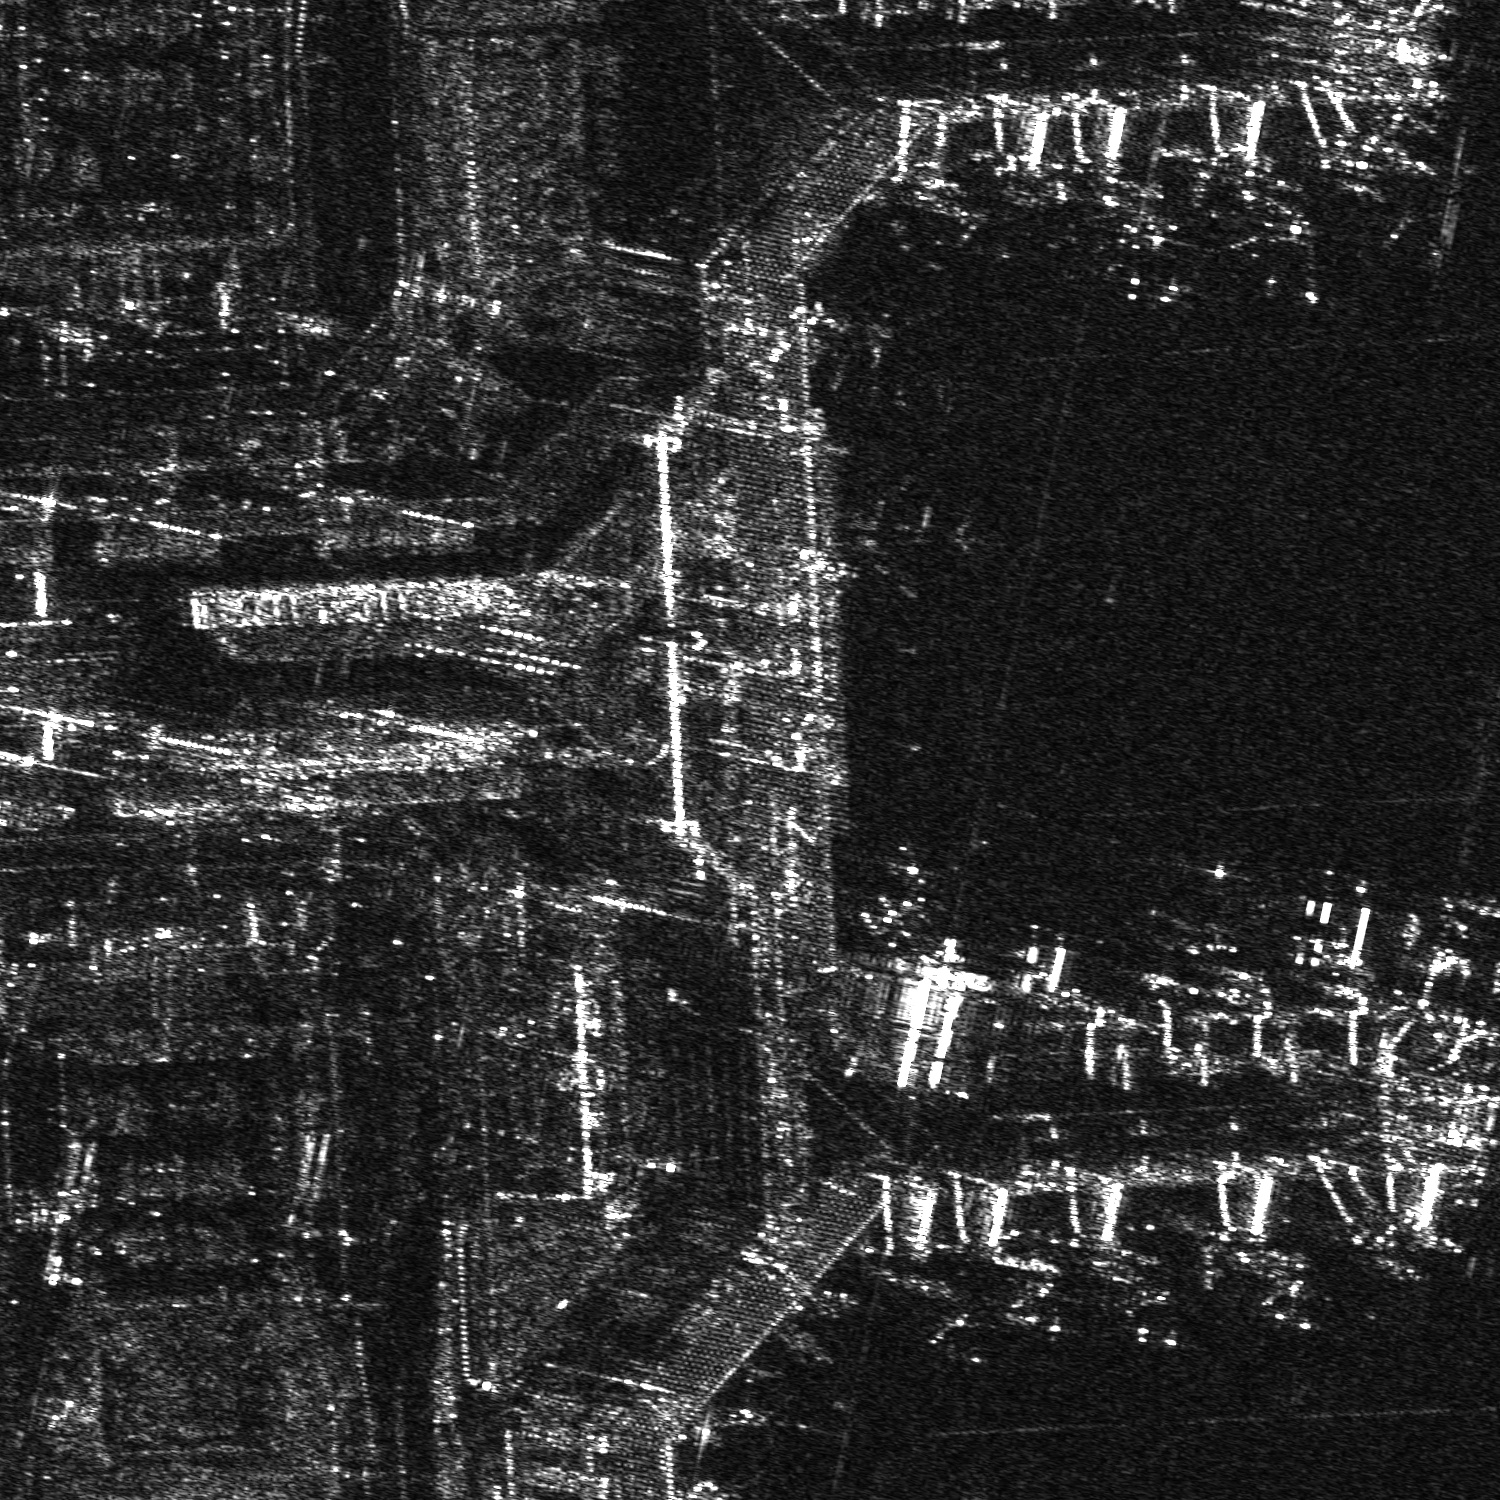A220: (1007, 1262, 1081, 1334)
A320/321: (837, 474, 975, 604), (1096, 216, 1202, 313), (1370, 192, 1459, 275)
Boeing737: (1225, 207, 1341, 302), (929, 1291, 995, 1368)
Boeing787: (1115, 1255, 1179, 1345)
other: (1260, 1257, 1331, 1331)
